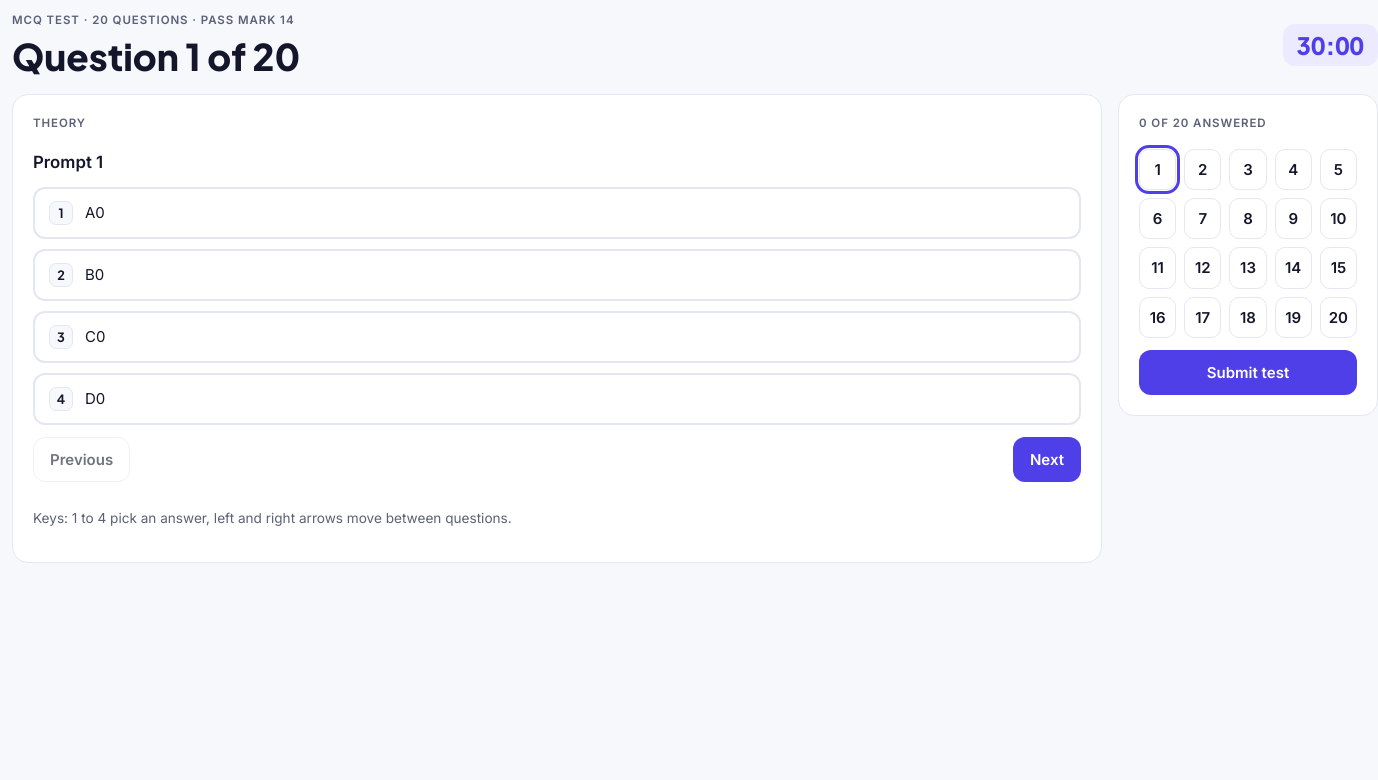
it: answering › picking an option marks it and saves it to the server
Expected: the text "Prompt 1" is shown, [33, 152, 103, 172]
Click the radio button labelled "2 B0". click: [61, 275]
box: [33, 249, 1081, 301]
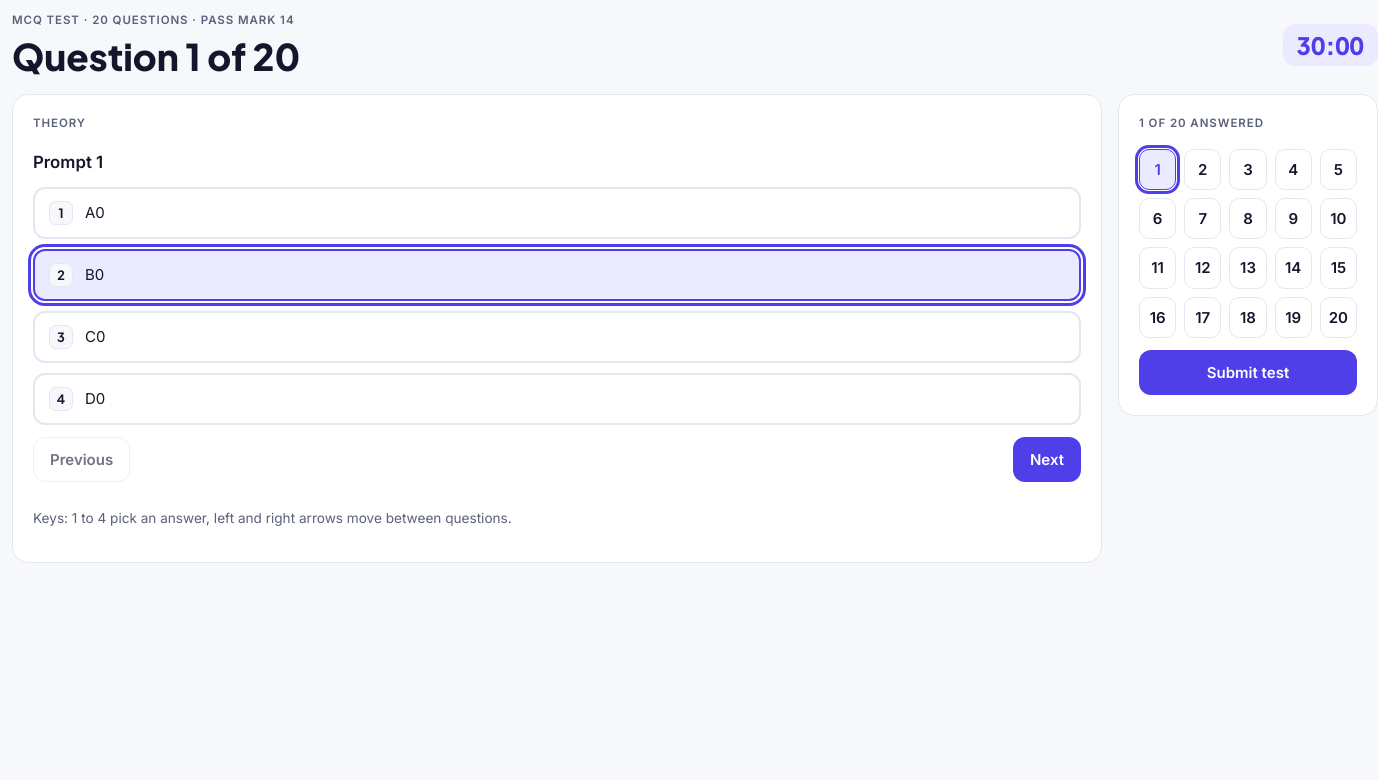
Now the text "1 of 20 answered" is shown, box [1139, 116, 1264, 130]
